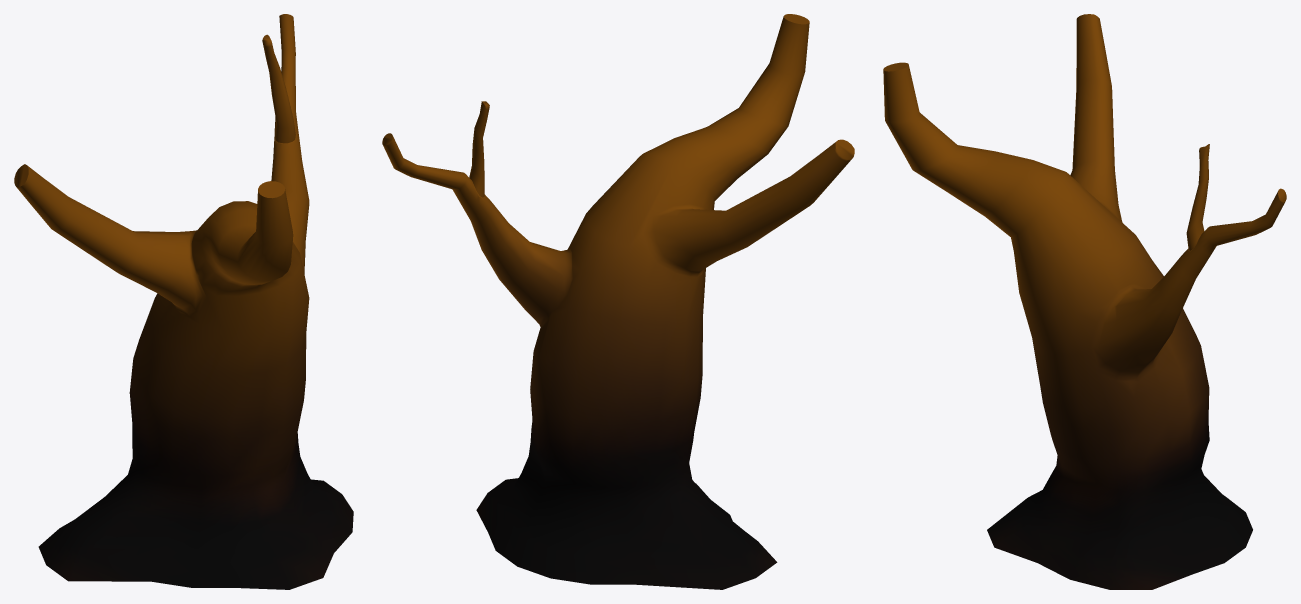
Rendered from sm_arbre3.fbx.
3 renders of one model, left to right at view 1: azimuth 30°, elevation 25°; view 2: azimuth 150°, elevation 25°; view 3: azimuth 270°, elevation 25°, orthographic. The views are drawn at different scales.
Parts seen in each view (by area): view 1: Tronc3; view 2: Tronc3; view 3: Tronc3.
Part boxes in pixels (box(x1,y1,x2,y2)): Tronc3: box(14, 14, 353, 589); Tronc3: box(382, 14, 854, 589); Tronc3: box(883, 14, 1286, 589).
Bounding box in the file's own units: 437 × 501 × 421.
